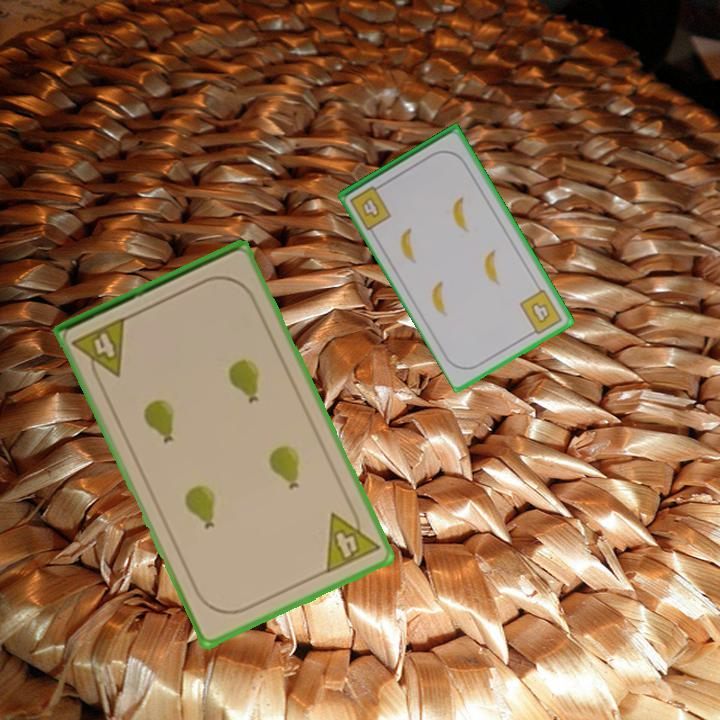4b: (516, 286, 565, 339), (346, 180, 394, 233)
4p: (322, 501, 383, 577), (69, 313, 130, 387)
